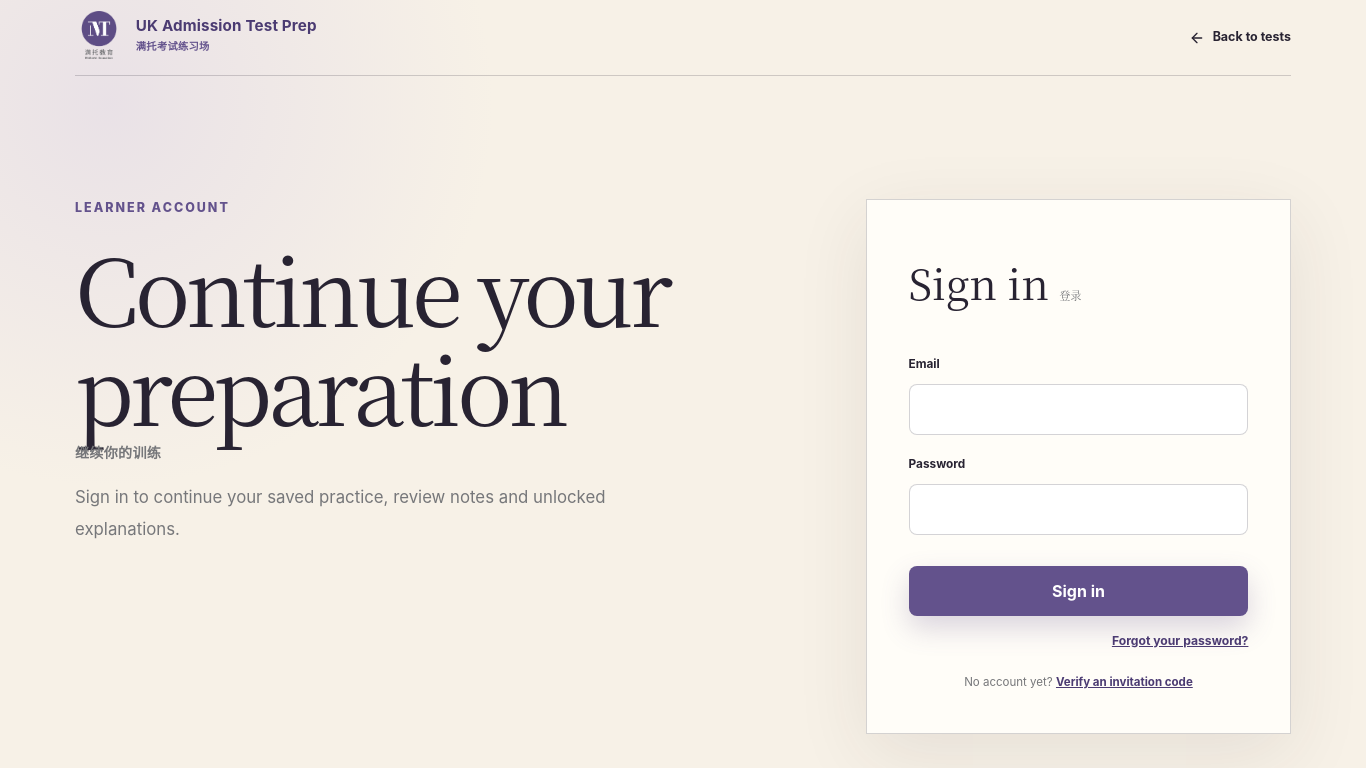
Scenario: invite-first account access flow › redeems a pending invite after an existing student logs in
Step 1. Type "student@example.com" into the field labelled "Email" → x=1078, y=410, box [908,384,1248,435]
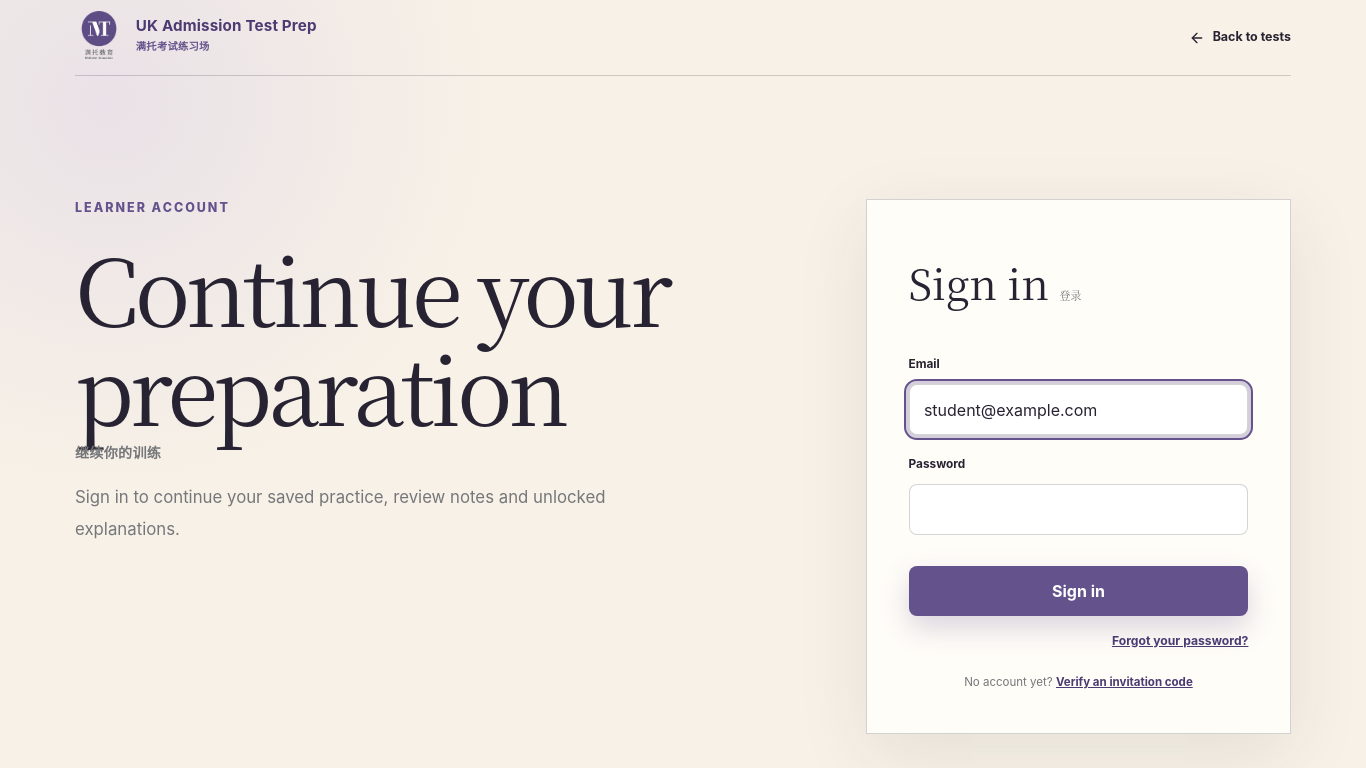
Step 2. Type "SecurePass1" into the password field labelled "Password" → x=1078, y=510, box [908,484,1248,535]
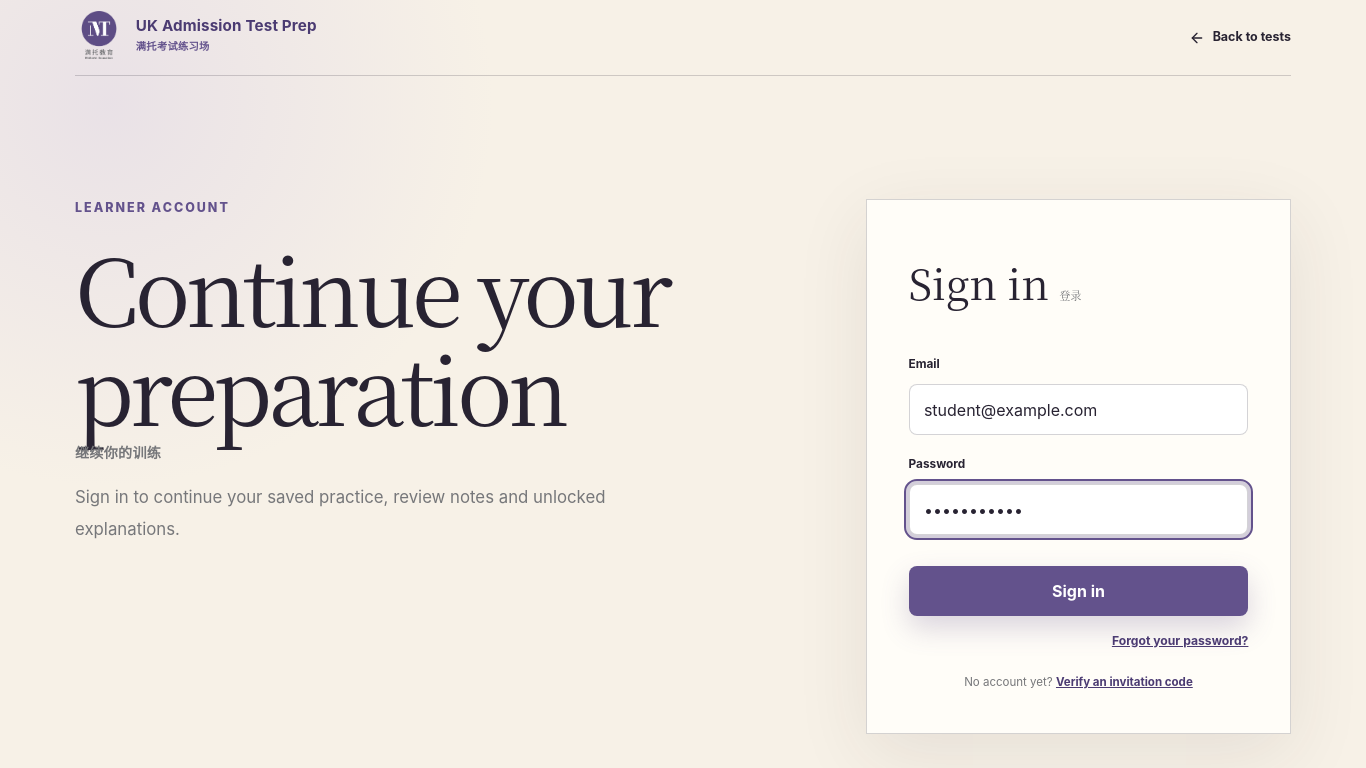
Step 3. Click the button "Sign in" → x=1078, y=591, box [908,566,1248,616]
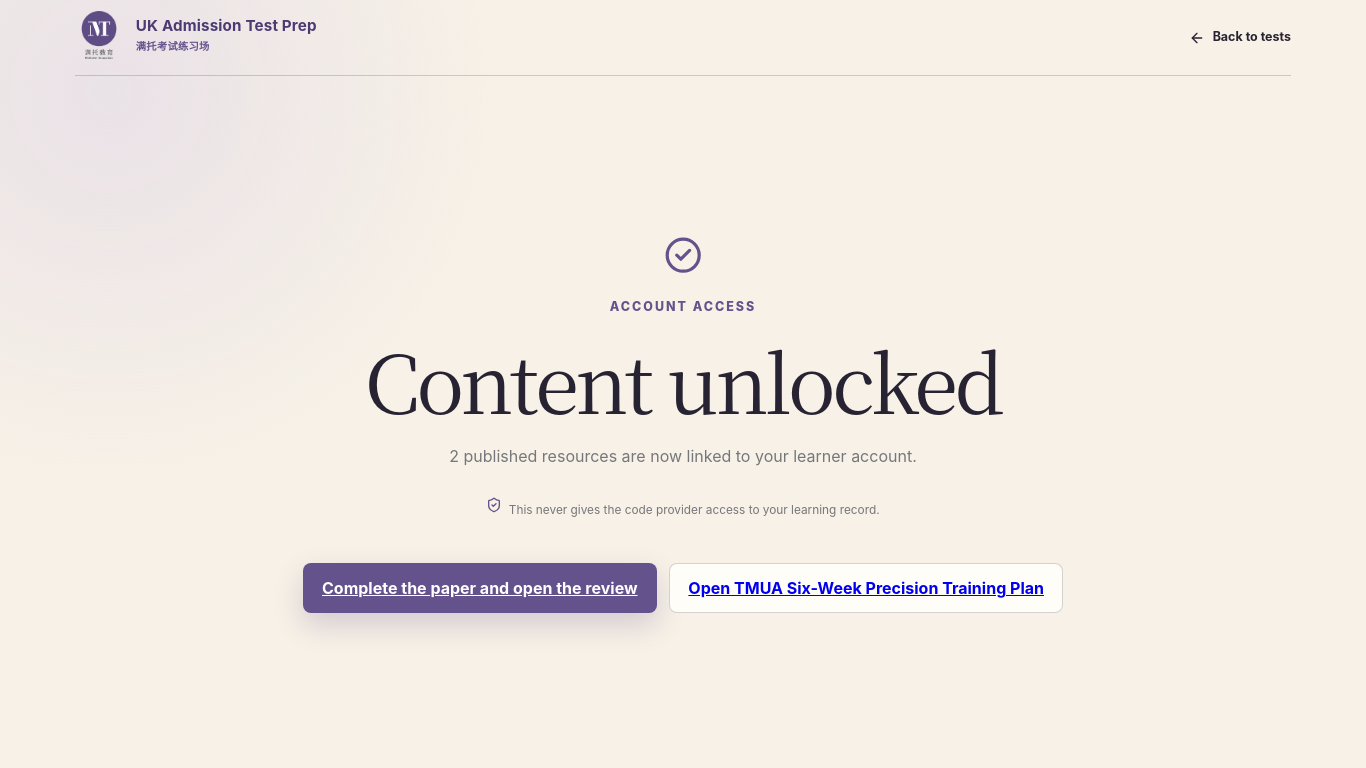
Expected: the heading "Content unlocked" is shown, [365,322,1001,437]
